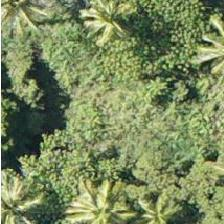coconut_tree: (55, 0, 145, 60), (107, 166, 197, 223), (52, 166, 142, 223), (0, 164, 51, 223)
